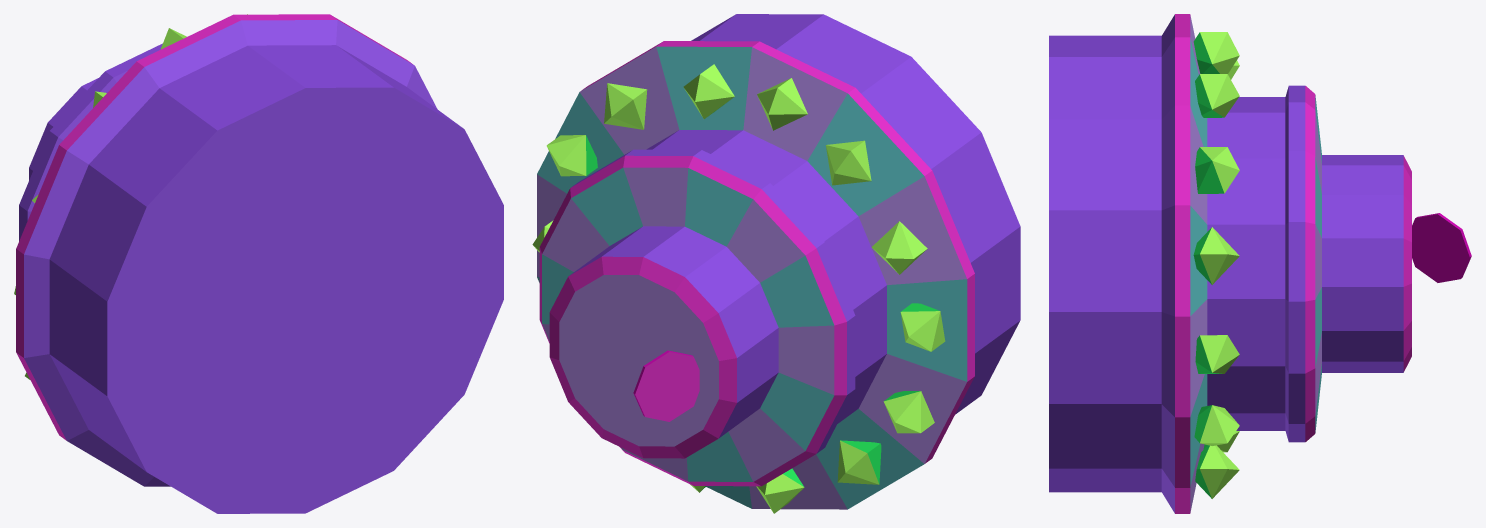
The model's file is pink_cake_2.fbx.
The picture shows the model from 3 angles, left to right: view 1: azimuth 30°, elevation 25°; view 2: azimuth 150°, elevation 25°; view 3: azimuth 270°, elevation 25°; orthographic projection. The views are drawn at different scales.
Visible parts, largest first — view 1: pink_cake_2; view 2: pink_cake_2; view 3: pink_cake_2.
Boxes of the visible parts, x1,y1,x2,y2 form: pink_cake_2: [14, 14, 503, 513]; pink_cake_2: [532, 14, 1020, 513]; pink_cake_2: [1049, 14, 1471, 513].
Size of the model in its own units: 506 by 519 by 439.
